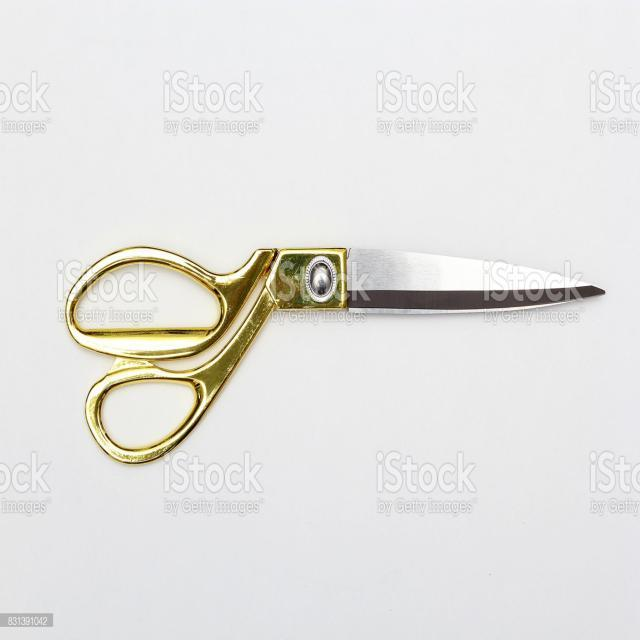scissor: (62, 244, 606, 466)
